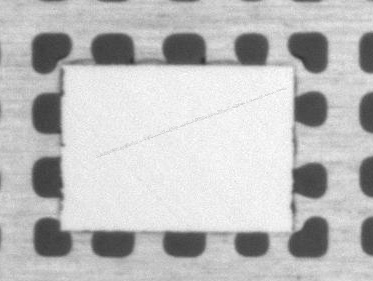DIE_CRACK: (127, 66, 373, 118)
